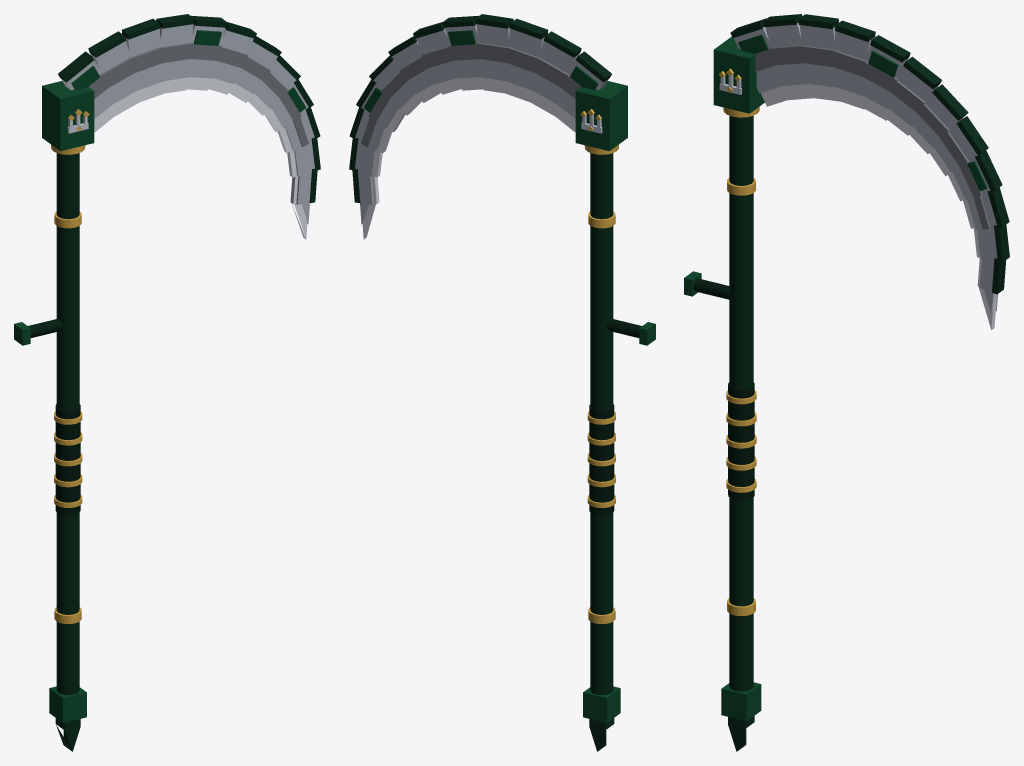
The picture shows the model from 3 angles, left to right: view 1: azimuth 30°, elevation 25°; view 2: azimuth 150°, elevation 25°; view 3: azimuth 330°, elevation 25°; orthographic projection. The views are drawn at different scales.
Parts seen in each view (by area): view 1: umbral-crescent; view 2: umbral-crescent; view 3: umbral-crescent.
Boxes of the visible parts, bbox=[...] form: umbral-crescent: bbox=[14, 14, 320, 751]; umbral-crescent: bbox=[349, 14, 655, 751]; umbral-crescent: bbox=[684, 14, 1009, 751].
Bounding box in the file's own units: 0.6569 × 1.48 × 0.0874.
